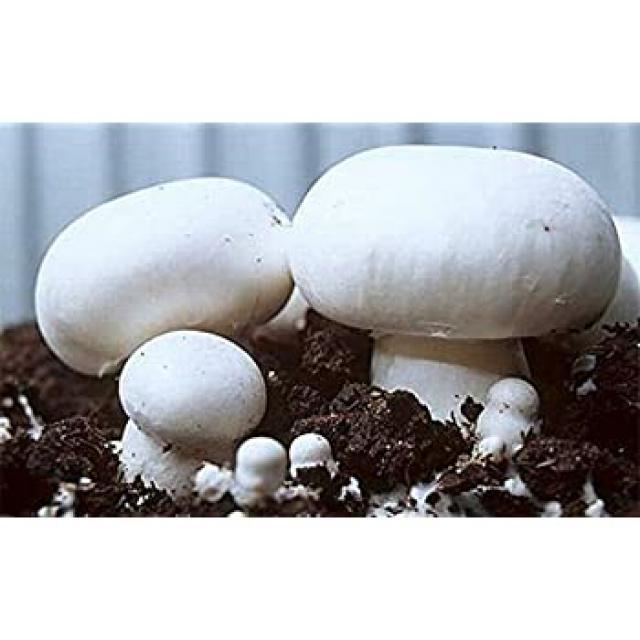Agaricus bisporus: (292, 144, 626, 429), (36, 172, 297, 379), (125, 341, 259, 489)
